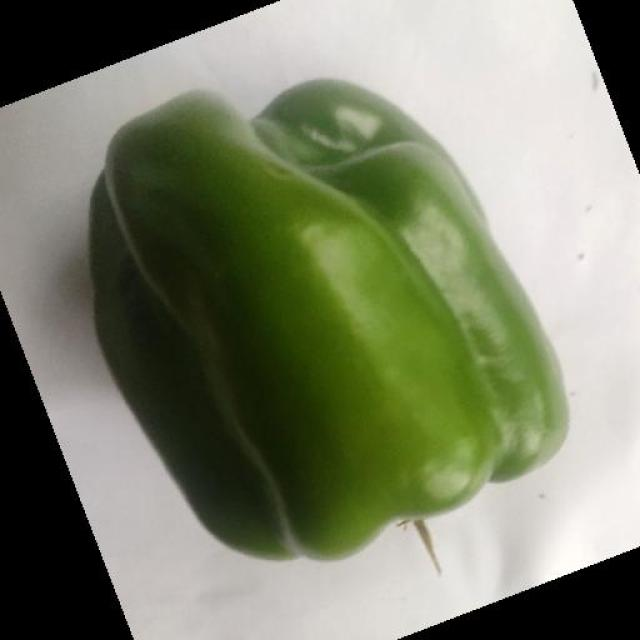Fresh_Capsicum: (82, 67, 559, 541)
